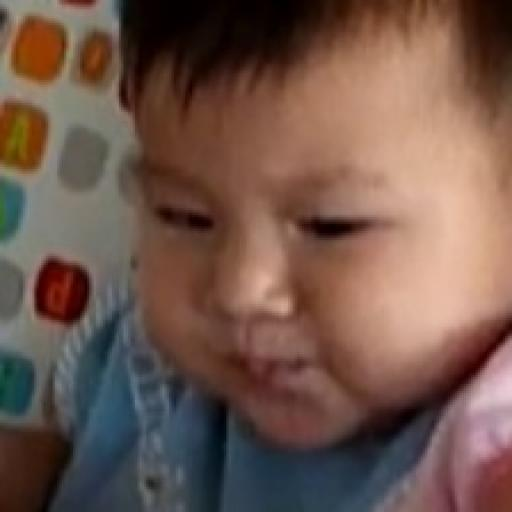Autism: (107, 0, 512, 479)
